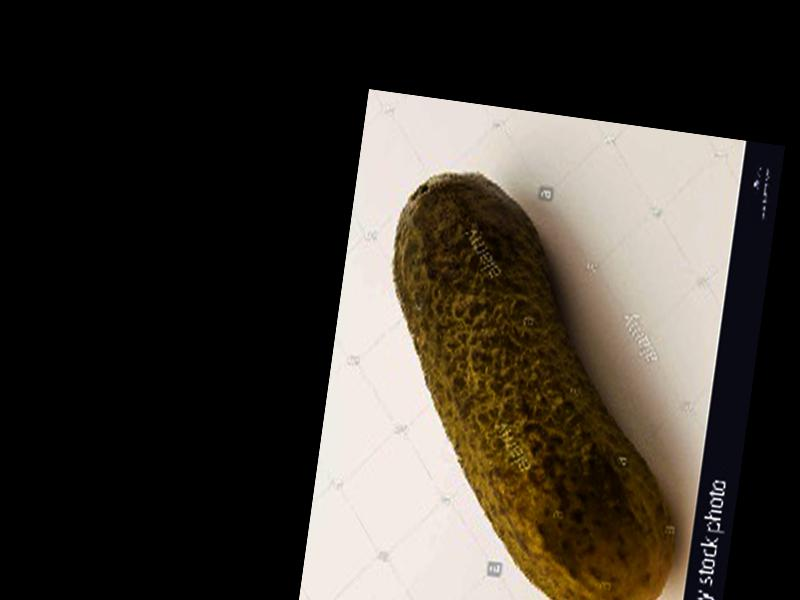Cucumber: (348, 166, 718, 600)
